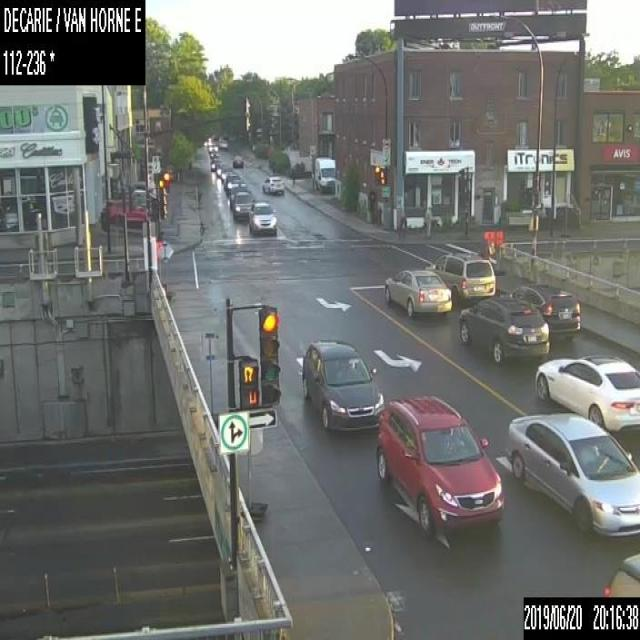construction: (240, 427, 269, 520), (200, 329, 216, 429), (157, 236, 174, 302), (494, 230, 503, 275), (484, 228, 493, 273)
vehicle: (376, 396, 503, 532), (507, 411, 639, 537), (534, 352, 639, 431), (301, 339, 384, 430), (458, 295, 550, 361), (507, 283, 580, 341), (424, 252, 495, 302), (383, 268, 451, 317), (601, 552, 639, 595), (100, 200, 149, 230), (249, 200, 276, 236), (314, 155, 334, 193), (232, 190, 254, 220), (261, 173, 284, 195), (230, 182, 247, 206), (226, 174, 242, 195), (215, 161, 227, 177), (220, 165, 232, 180), (209, 157, 221, 170), (222, 173, 230, 189), (232, 155, 242, 167), (218, 139, 227, 149), (208, 143, 217, 152), (209, 149, 218, 157)
